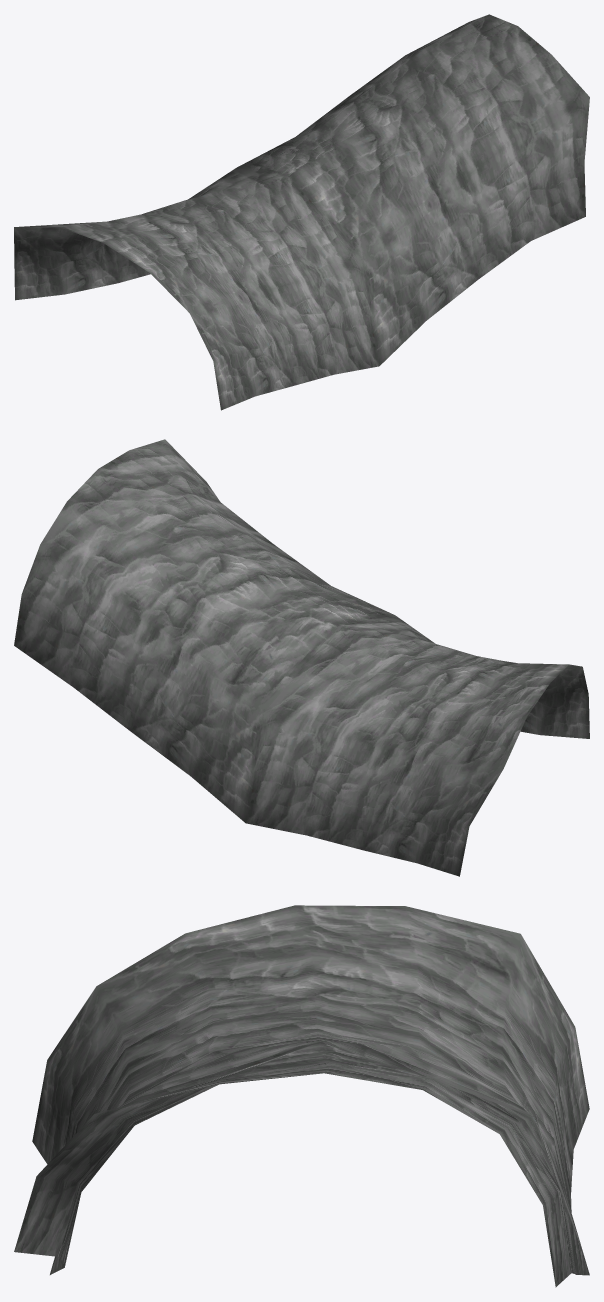
The model's file is SWORDLIGHT20_PS-AREA02_01.fbx.
The picture shows the model from 3 angles, top to bottom: view 1: azimuth 30°, elevation 25°; view 2: azimuth 150°, elevation 25°; view 3: azimuth 270°, elevation 25°; orthographic projection. The views are drawn at different scales.
Parts seen in each view (by area): view 1: SWORDLIGHT20_PS-AREA02_01; view 2: SWORDLIGHT20_PS-AREA02_01; view 3: SWORDLIGHT20_PS-AREA02_01.
Boxes of the visible parts, box(x1,y1,x2,y2) form: SWORDLIGHT20_PS-AREA02_01: box(14, 14, 589, 410); SWORDLIGHT20_PS-AREA02_01: box(14, 439, 589, 876); SWORDLIGHT20_PS-AREA02_01: box(14, 905, 589, 1287).
Size of the model in its own units: 126087 by 60841 by 81466.
Materials: 1 (1 with a texture image).
